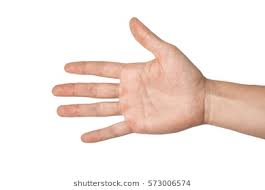palm: (120, 66, 197, 132)
